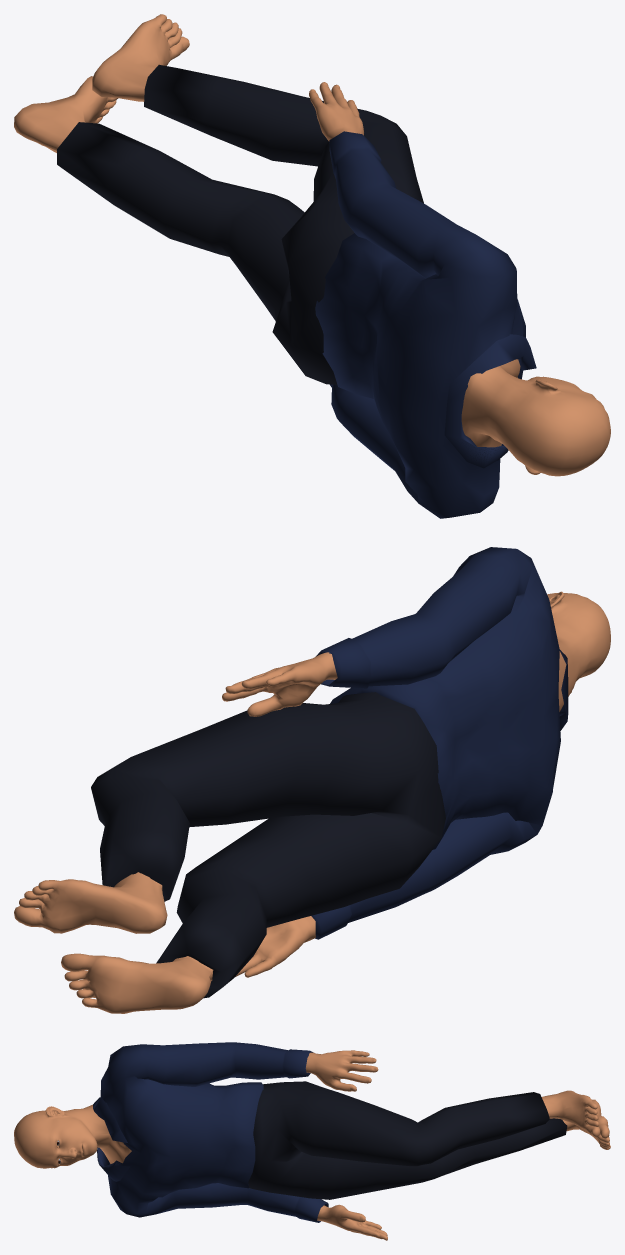
Rendered from walk.obj.
3 renders of one model, top to bottom at view 1: azimuth 30°, elevation 25°; view 2: azimuth 150°, elevation 25°; view 3: azimuth 270°, elevation 25°, orthographic. The views are drawn at different scales.
Bounding box in the file's own units: 0.4872 × 0.5492 × 1.69.
